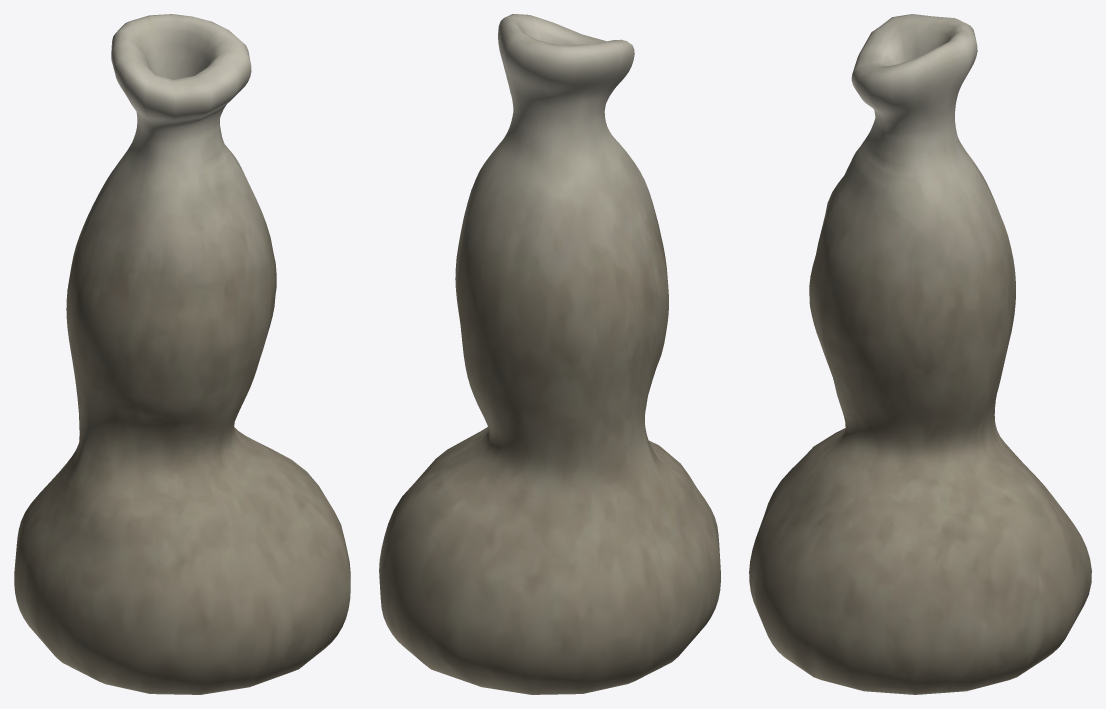
The model's file is vase2-transformed.glb.
3 renders of one model, left to right at view 1: azimuth 30°, elevation 25°; view 2: azimuth 150°, elevation 25°; view 3: azimuth 270°, elevation 25°, orthographic. The views are drawn at different scales.
Parts seen in each view (by area): view 1: Cube.001; view 2: Cube.001; view 3: Cube.001.
Part boxes in pixels (<box>): Cube.001: <box>14,14,350,694</box>; Cube.001: <box>379,14,720,694</box>; Cube.001: <box>749,14,1091,694</box>.
Size of the model in its own units: 1.62 by 3.3 by 1.66.
1 material, 1 textured.
